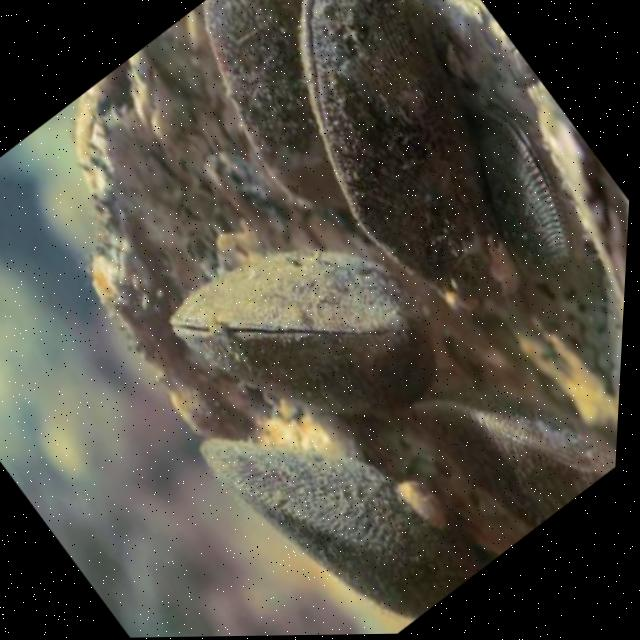Oyster-Closed: (297, 0, 513, 307), (171, 245, 443, 419), (418, 397, 616, 525), (469, 109, 576, 286)
Oyster-Indeterminate: (202, 436, 482, 620), (201, 0, 348, 204)
